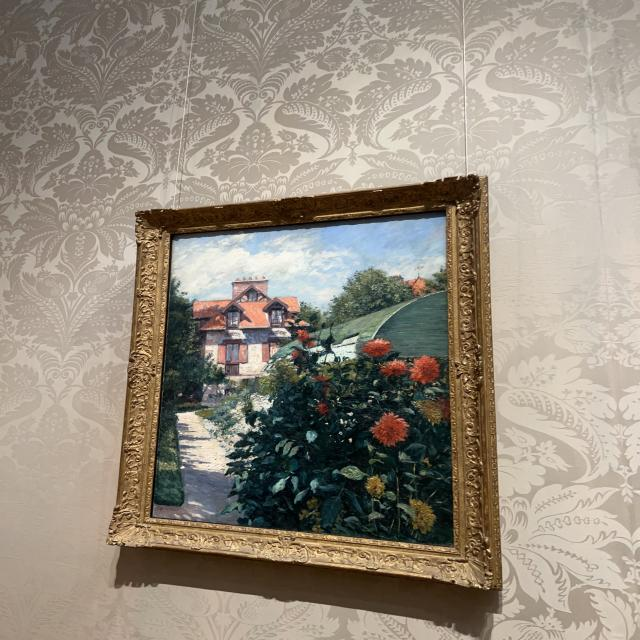summer: (152, 211, 455, 546)
